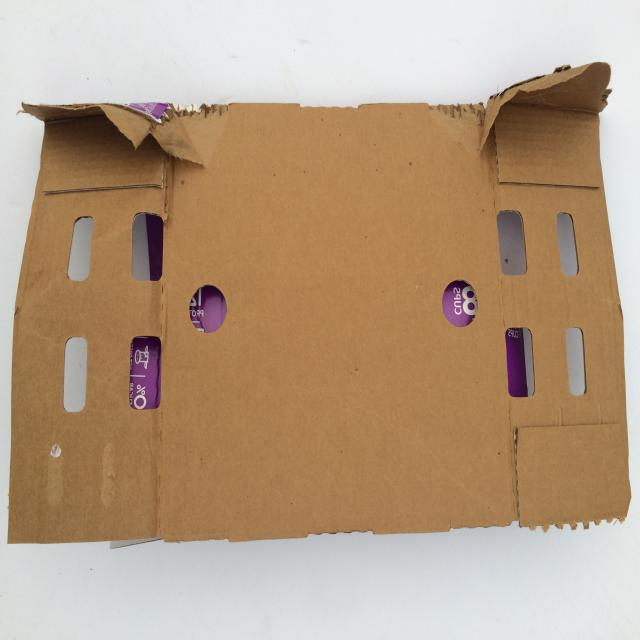cardboard: (8, 60, 631, 546)
